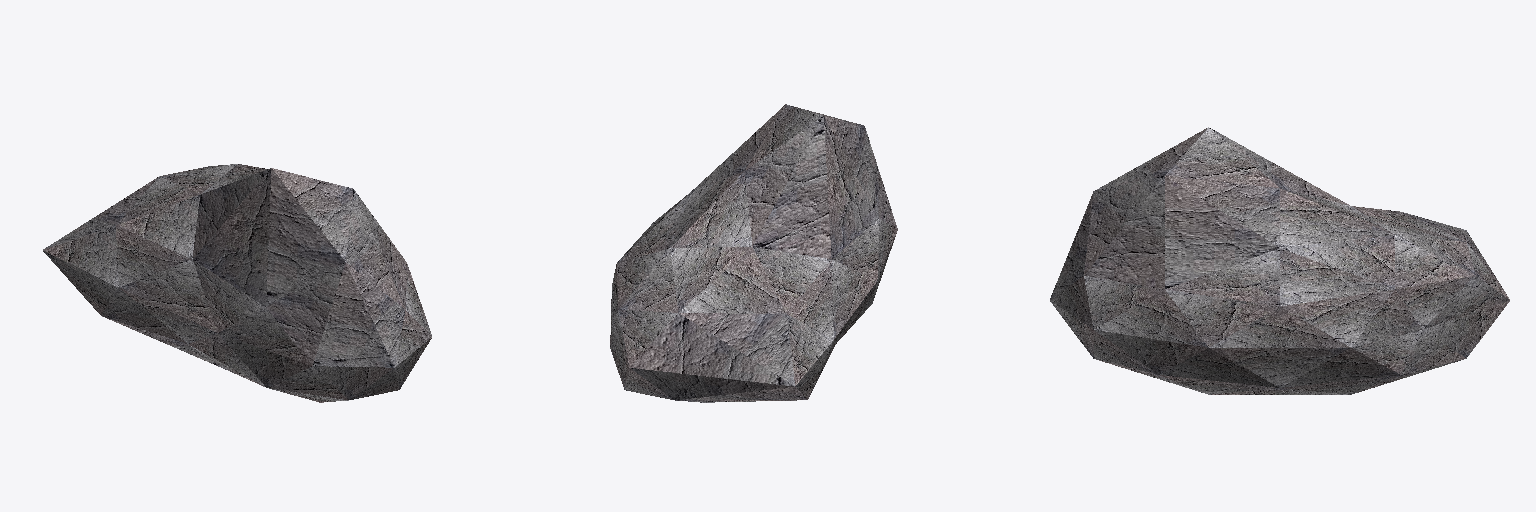
3 views of the same model, side by side, from view 1: azimuth 30°, elevation 25°; view 2: azimuth 150°, elevation 25°; view 3: azimuth 270°, elevation 25° (orthographic).
Parts seen in each view (by area): view 1: Icosphere; view 2: Icosphere; view 3: Icosphere.
Part boxes in pixels (bbox=[...]): Icosphere: bbox=[43, 164, 431, 402]; Icosphere: bbox=[610, 104, 897, 402]; Icosphere: bbox=[1050, 127, 1509, 394].
Size of the model in its own units: 2.36 by 2.23 by 3.91.
Materials: 1 (1 with a texture image).